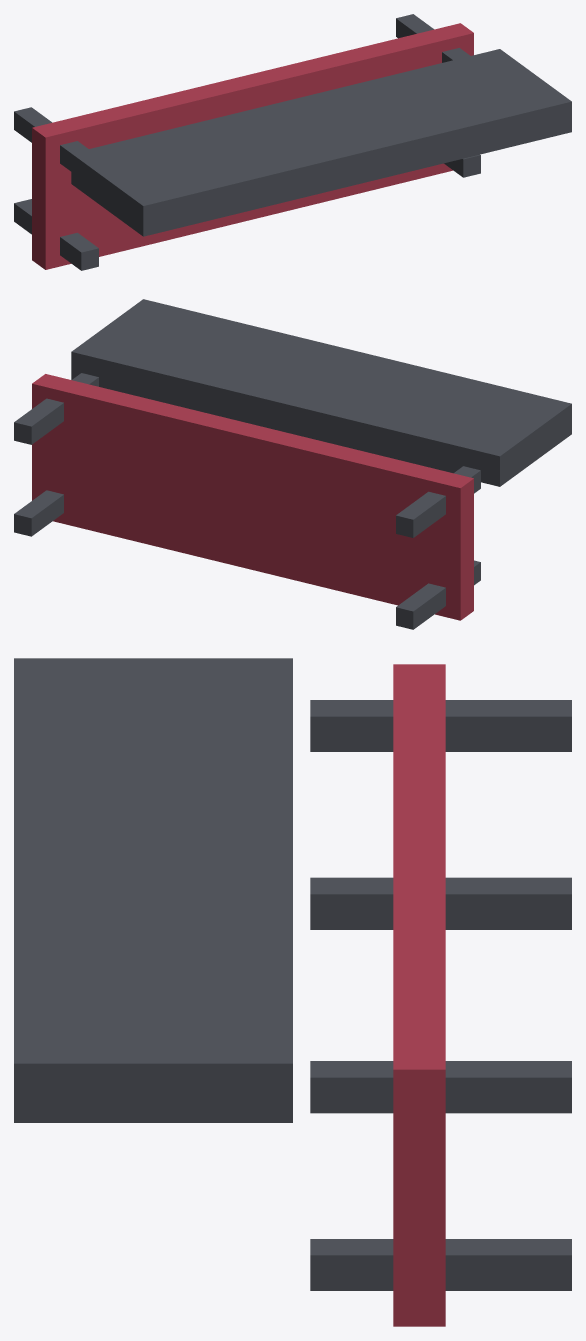
The model's file is bench_v01.glb.
The picture shows the model from 3 angles, top to bottom: view 1: azimuth 30°, elevation 25°; view 2: azimuth 150°, elevation 25°; view 3: azimuth 270°, elevation 25°; orthographic projection. The views are drawn at different scales.
Visible parts, largest first — view 1: box_5, box_0, box_1, box_2, box_4, box_3; view 2: box_0, box_5, box_2, box_4, box_1, box_3; view 3: box_5, box_0, box_1, box_4, box_2, box_3.
Part boxes in pixels (bbox=[...]): box_5: bbox=[71, 49, 571, 236]; box_0: bbox=[32, 23, 473, 269]; box_1: bbox=[14, 199, 98, 270]; box_2: bbox=[14, 107, 88, 171]; box_4: bbox=[396, 14, 470, 62]; box_3: bbox=[444, 154, 480, 177]; box_0: bbox=[32, 374, 473, 620]; box_5: bbox=[71, 299, 571, 486]; box_2: bbox=[396, 466, 480, 537]; box_4: bbox=[14, 373, 98, 444]; box_1: bbox=[396, 560, 480, 629]; box_3: bbox=[14, 490, 63, 536]; box_5: bbox=[14, 658, 292, 1122]; box_0: bbox=[393, 664, 445, 1326]; box_1: bbox=[310, 877, 571, 929]; box_4: bbox=[310, 1061, 571, 1113]; box_2: bbox=[310, 700, 571, 751]; box_3: bbox=[310, 1239, 571, 1290].
Size of the model in its own units: 2.2 by 0.665 by 1.28.
